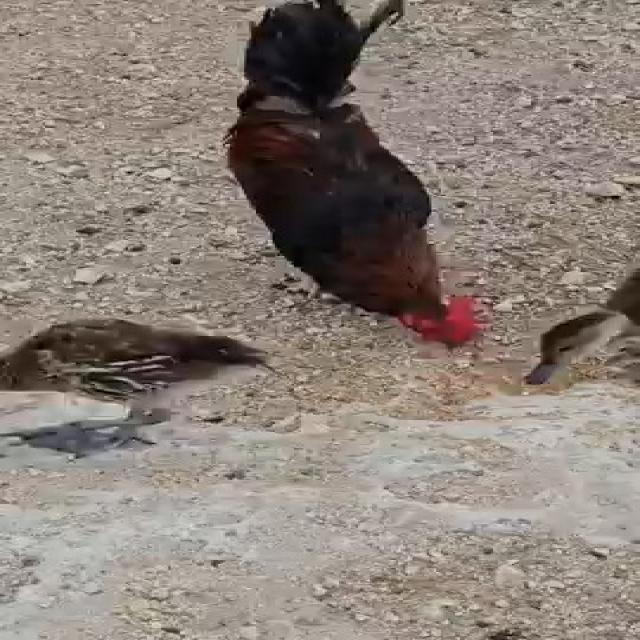pecking: (199, 0, 504, 350)
